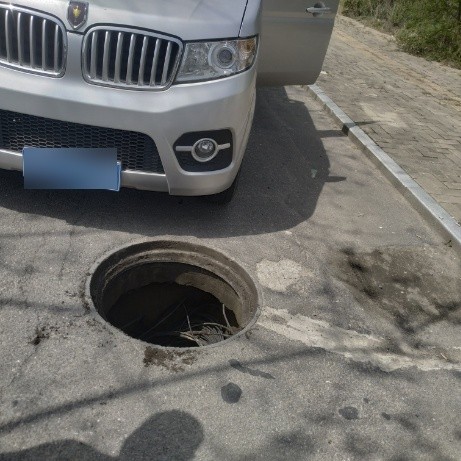well: (85, 235, 260, 350)
